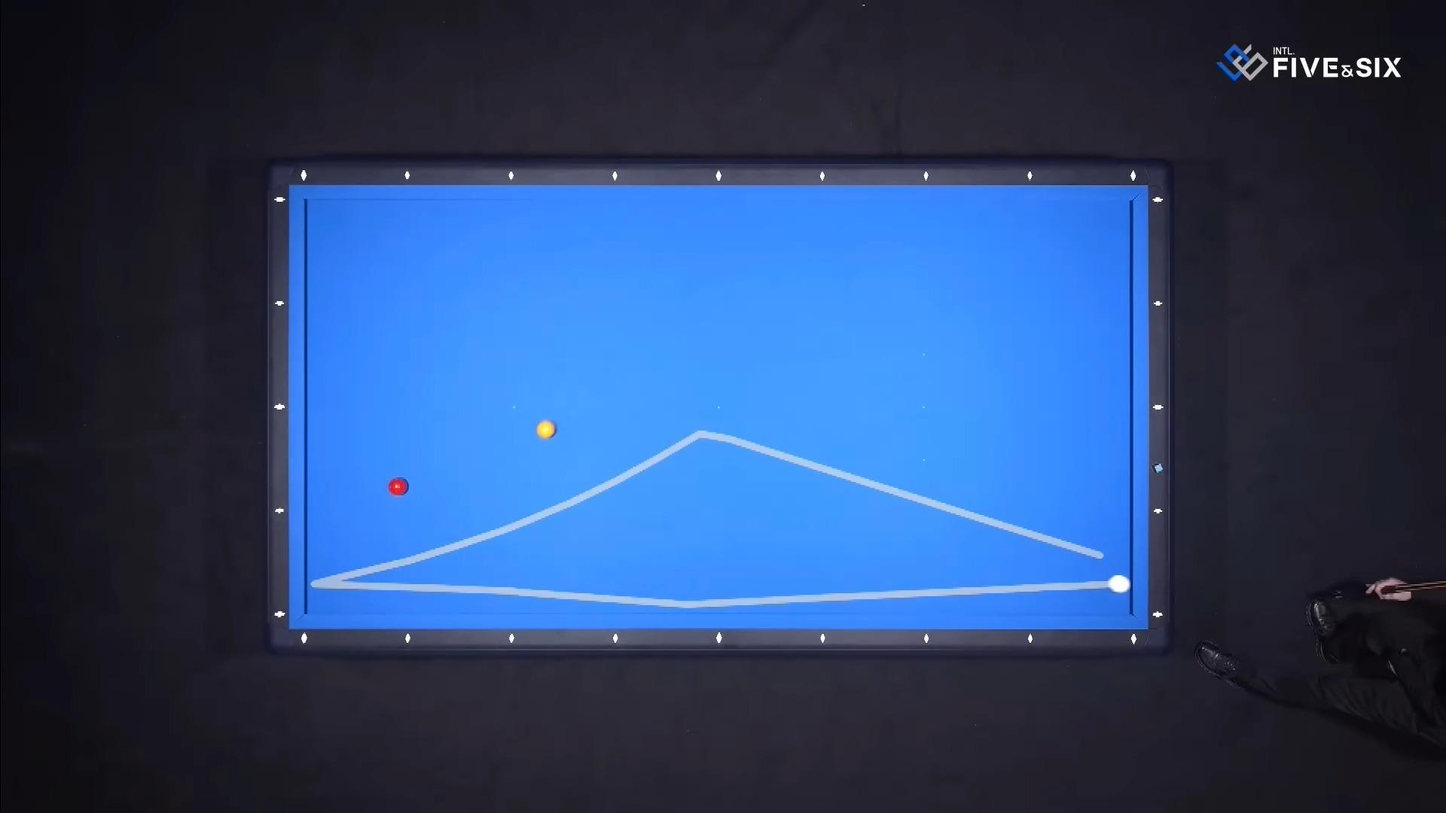Red: (386, 480, 410, 498)
White: (1107, 575, 1135, 595)
Yellow: (534, 421, 561, 443)
